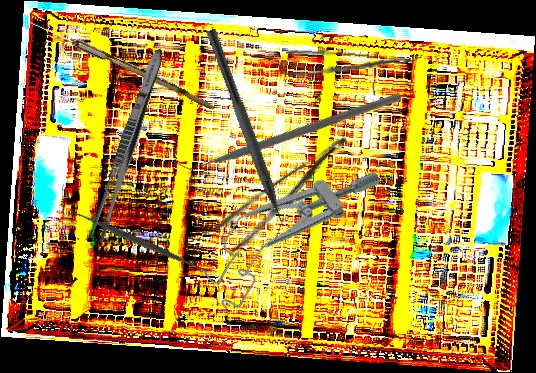Chopper: (168, 6, 405, 251), (191, 28, 295, 243)
Dressing Forceps: (210, 132, 365, 256), (86, 45, 169, 246), (284, 47, 411, 85)
Spatula Surgical: (66, 202, 212, 281)
Speculum: (184, 135, 392, 317)
Surgical Spoon: (22, 15, 217, 111)
